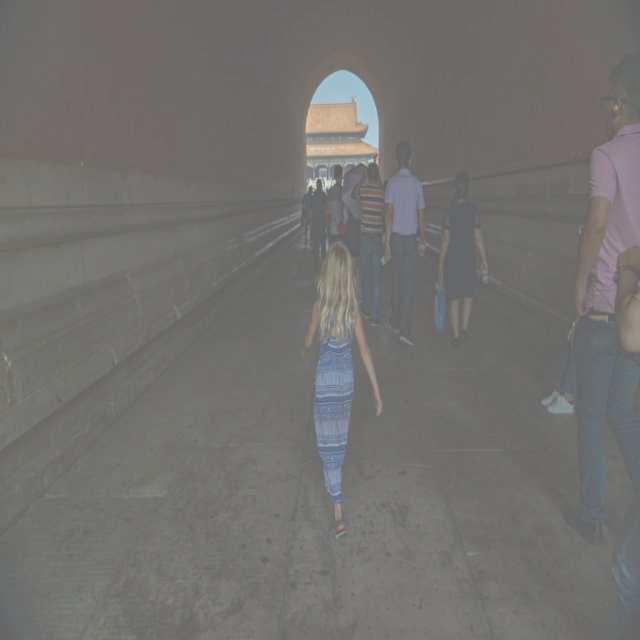pessoa: (564, 49, 640, 544), (296, 238, 384, 544), (380, 136, 428, 348), (436, 168, 489, 350), (350, 160, 390, 330), (542, 321, 584, 418), (350, 165, 374, 304), (612, 246, 640, 362), (380, 140, 424, 190), (326, 162, 350, 248), (308, 176, 329, 267), (300, 184, 314, 248)
